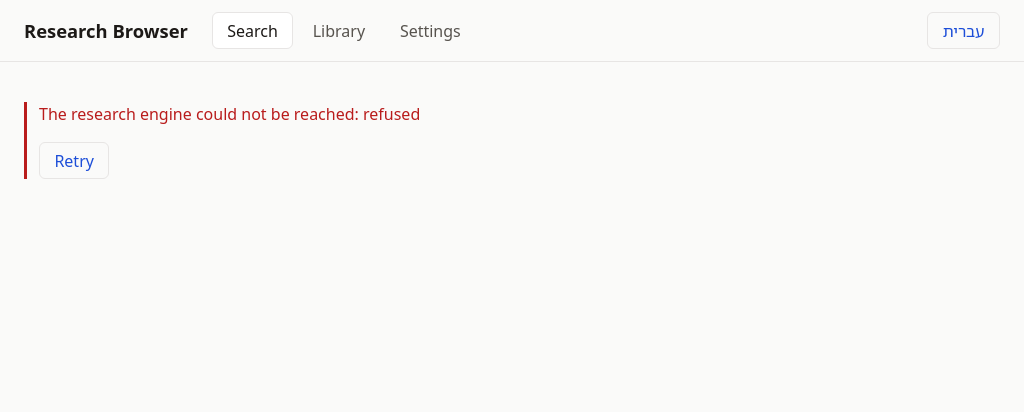
Test: App › shows the failure and retries on request
Check: the message shows "refused", box [39,103,420,125]
Click the button "Retry" at (74, 161), box [39,142,109,179]
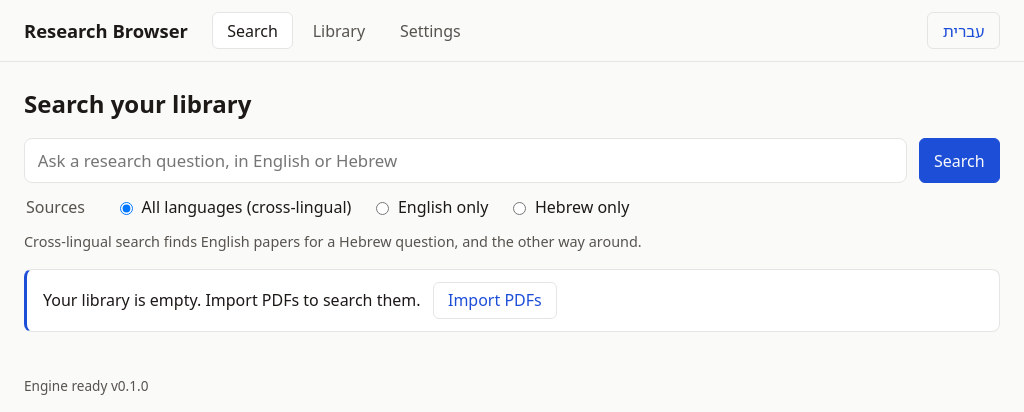
Check: the text "Engine ready" is shown, box [24,376,107,395]
